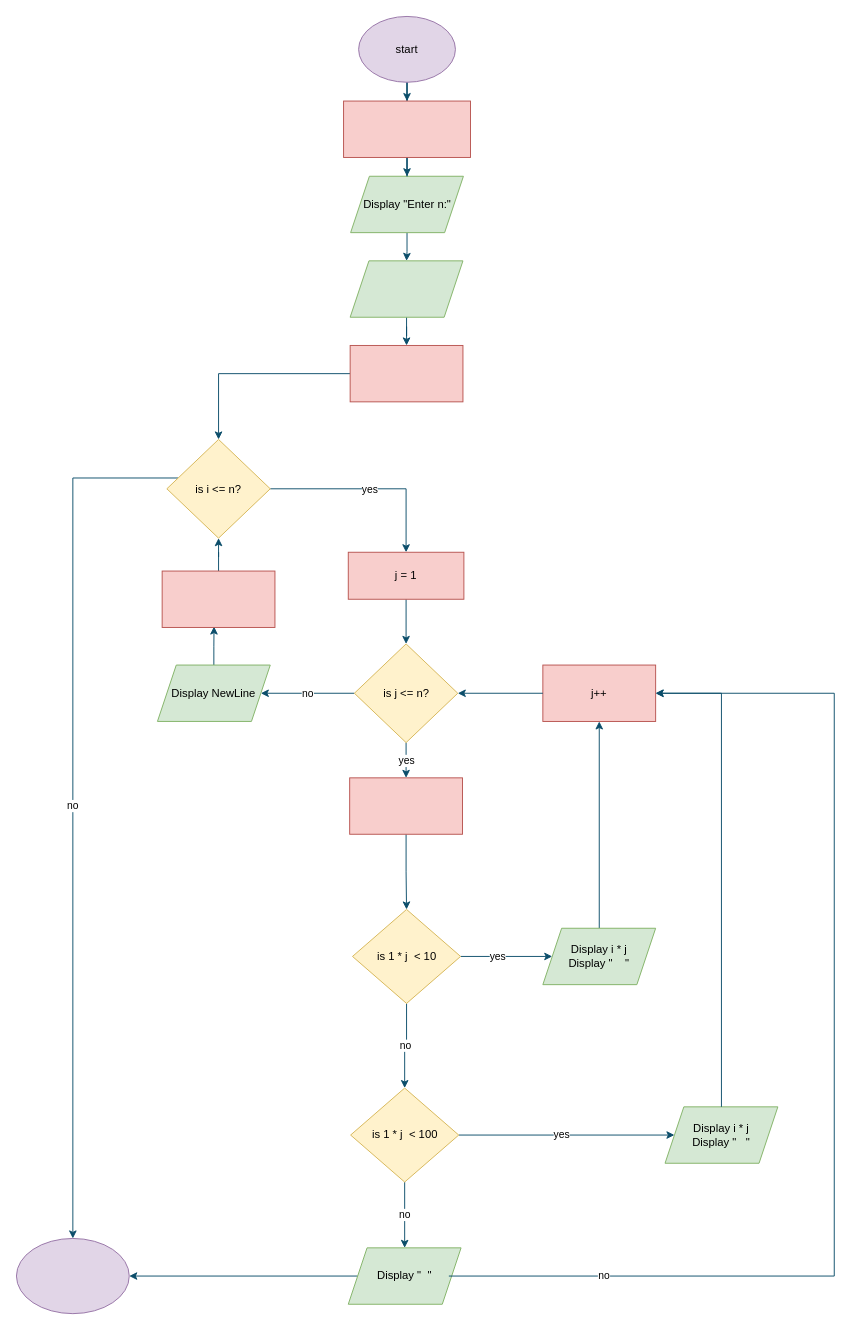
Some shapes in this 858 by 1330 pixel diagram are drawn without their labels. The centre of each missing label's shape, as x and y in pixels:
"Compute i * j" belongs at point (405, 805).
"Declare variable n" belongs at point (406, 128).
"end" belongs at point (72, 1276).
"i = 1" belongs at point (406, 373).
"i++" belongs at point (218, 598).
"Input n" belongs at point (406, 288).
